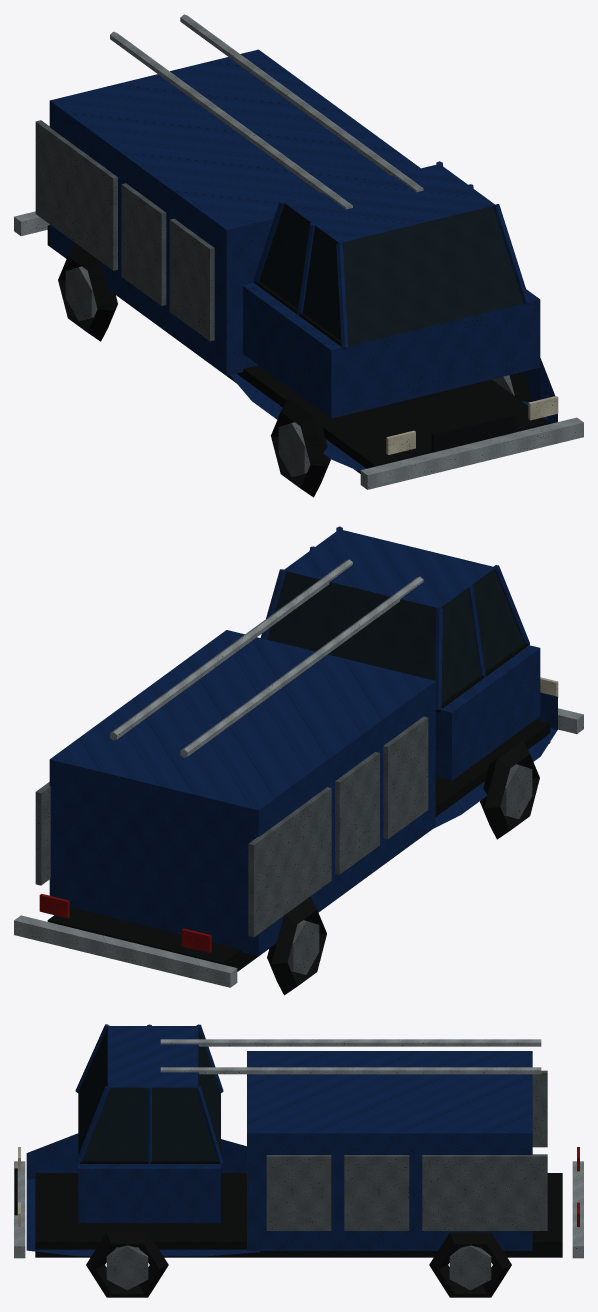
Rendered from PROP-EAE1C359D468_lod2.glb.
The picture shows the model from 3 angles, top to bottom: view 1: azimuth 30°, elevation 25°; view 2: azimuth 150°, elevation 25°; view 3: azimuth 270°, elevation 25°; orthographic projection. The views are drawn at different scales.
Parts seen in each view (by area): view 1: equipment_body.001, sloped_cabin_glazing.005, lower_cab_shell.003, locker_door.001, chassis.007, roof_panel.005, ladder_rails.001, bumper.007, tire.007, rim.007, window_pillars.005, shaped_body_panels.007 (+2 smaller); view 2: equipment_body.001, locker_door.001, sloped_cabin_glazing.005, roof_panel.005, lower_cab_shell.003, chassis.007, ladder_rails.001, bumper.007, tire.007, rim.007, window_pillars.005, shaped_body_panels.007 (+1 smaller); view 3: equipment_body.001, locker_door.001, chassis.007, sloped_cabin_glazing.005, lower_cab_shell.003, ladder_rails.001, roof_panel.005, tire.007, shaped_body_panels.007, rim.007, bumper.007, window_pillars.005 (+1 smaller).
Boxes of the visible parts, x1=… form: equipment_body.001: x1=49, y1=49, x2=420, y2=375; sloped_cabin_glazing.005: x1=259, y1=203, x2=523, y2=346; lower_cab_shell.003: x1=243, y1=283, x2=540, y2=418; locker_door.001: x1=35, y1=120, x2=214, y2=341; chassis.007: x1=47, y1=225, x2=550, y2=473; roof_panel.005: x1=283, y1=164, x2=495, y2=243; ladder_rails.001: x1=110, y1=14, x2=423, y2=209; bumper.007: x1=14, y1=211, x2=583, y2=489; tire.007: x1=58, y1=243, x2=531, y2=497; rim.007: x1=65, y1=266, x2=514, y2=476; window_pillars.005: x1=253, y1=161, x2=529, y2=347; shaped_body_panels.007: x1=230, y1=358, x2=557, y2=471; equipment_body.001: x1=49, y1=630, x2=435, y2=956; locker_door.001: x1=35, y1=716, x2=428, y2=937; sloped_cabin_glazing.005: x1=267, y1=567, x2=523, y2=703; roof_panel.005: x1=283, y1=529, x2=495, y2=608; lower_cab_shell.003: x1=435, y1=645, x2=540, y2=780; chassis.007: x1=47, y1=720, x2=550, y2=971; ladder_rails.001: x1=110, y1=559, x2=423, y2=757; bumper.007: x1=14, y1=708, x2=583, y2=987; tire.007: x1=267, y1=740, x2=539, y2=995; rim.007: x1=287, y1=764, x2=532, y2=974; window_pillars.005: x1=260, y1=526, x2=529, y2=709; shaped_body_panels.007: x1=433, y1=692, x2=557, y2=828; equipment_body.001: x1=247, y1=1051, x2=532, y2=1250; locker_door.001: x1=266, y1=1070, x2=547, y2=1230; chassis.007: x1=35, y1=1173, x2=562, y2=1257; sloped_cabin_glazing.005: x1=78, y1=1027, x2=220, y2=1160; lower_cab_shell.003: x1=78, y1=1164, x2=220, y2=1223; ladder_rails.001: x1=160, y1=1039, x2=541, y2=1074; roof_panel.005: x1=107, y1=1026, x2=198, y2=1087; tire.007: x1=86, y1=1232, x2=511, y2=1297; shaped_body_panels.007: x1=26, y1=1133, x2=259, y2=1256; rim.007: x1=106, y1=1245, x2=491, y2=1290; bumper.007: x1=14, y1=1161, x2=583, y2=1258; window_pillars.005: x1=75, y1=1024, x2=223, y2=1164.
Bounding box in the file's own units: 2.47 × 2.59 × 6.59.
8 materials, 8 textured.
